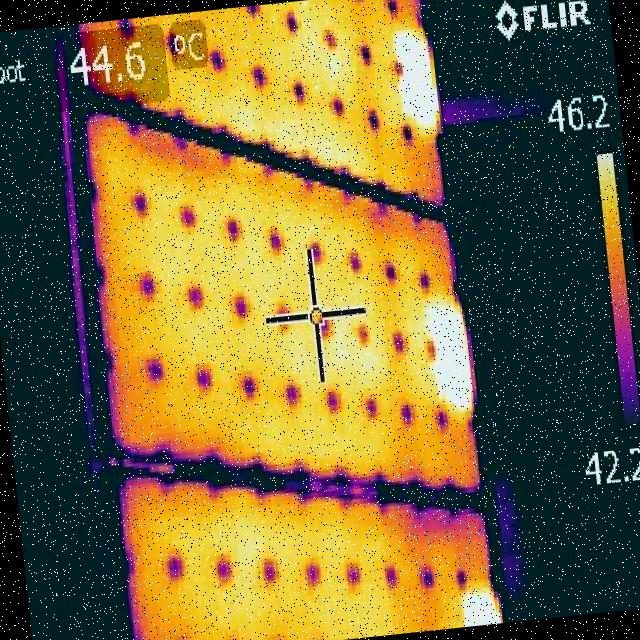Hotspot: (421, 300, 476, 413), (388, 24, 441, 138), (459, 585, 503, 627)
